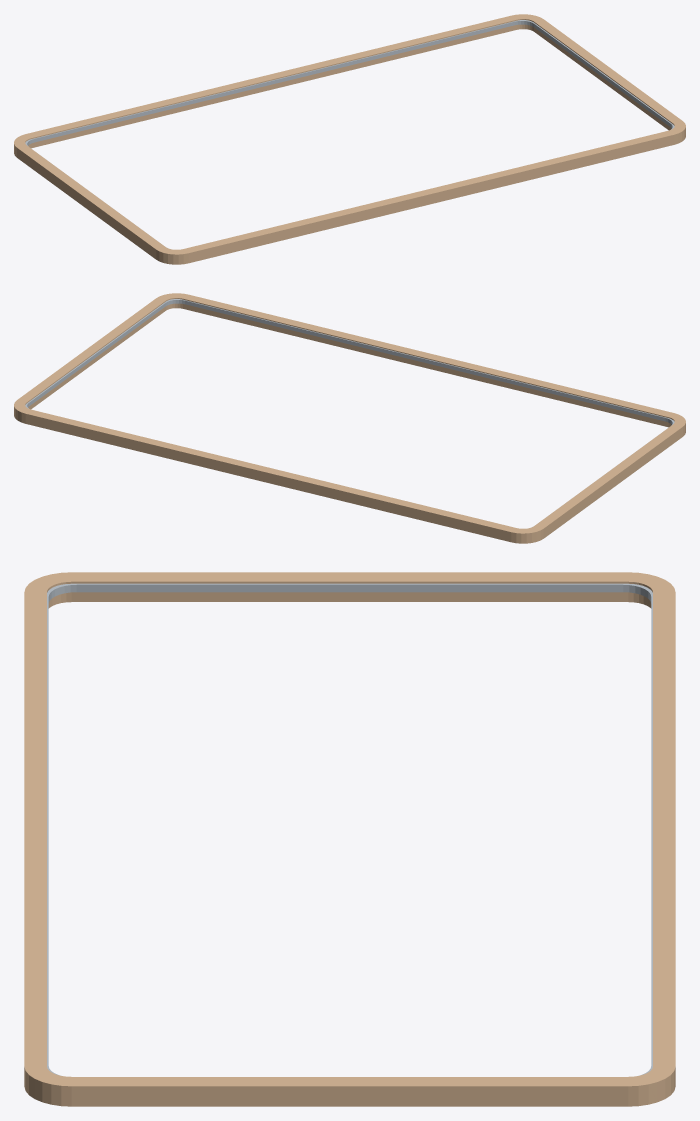
The model's file is 21_PS_Table_OuterBezelAndBumper.fbx.
The picture shows the model from 3 angles, top to bottom: view 1: azimuth 30°, elevation 25°; view 2: azimuth 150°, elevation 25°; view 3: azimuth 270°, elevation 25°; orthographic projection. The views are drawn at different scales.
Visible parts, largest first — view 1: PS_Table_OuterBezelAndBumper; view 2: PS_Table_OuterBezelAndBumper; view 3: PS_Table_OuterBezelAndBumper.
Part boxes in pixels (<box>): PS_Table_OuterBezelAndBumper: <box>14,14,685,264</box>; PS_Table_OuterBezelAndBumper: <box>14,293,685,543</box>; PS_Table_OuterBezelAndBumper: <box>24,572,675,1106</box>.
Size of the model in its own units: 975 by 18 by 522.
